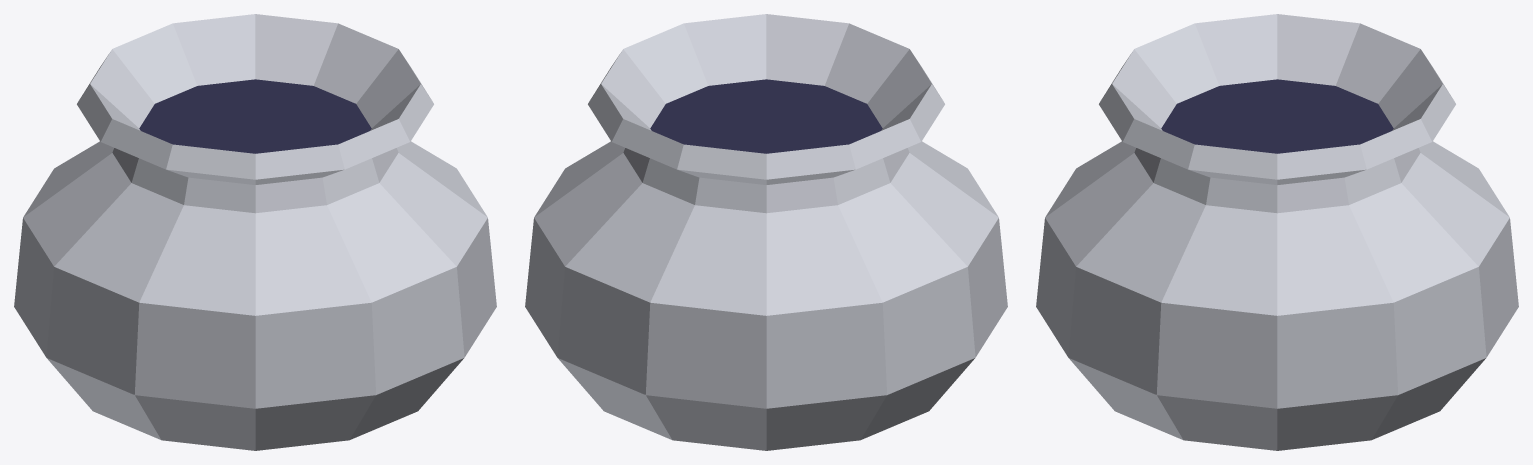
The model's file is inkwell_luna.glb.
3 renders of one model, left to right at view 1: azimuth 30°, elevation 25°; view 2: azimuth 150°, elevation 25°; view 3: azimuth 270°, elevation 25°, orthographic.
Parts seen in each view (by area): view 1: luna_inkwell; view 2: luna_inkwell; view 3: luna_inkwell.
Boxes of the visible parts, box(x1,y1,x2,y2) form: luna_inkwell: box(14, 14, 496, 450); luna_inkwell: box(525, 14, 1007, 450); luna_inkwell: box(1036, 14, 1518, 450).
Bounding box in the file's own units: 0.0756 × 0.0497 × 0.0756.
